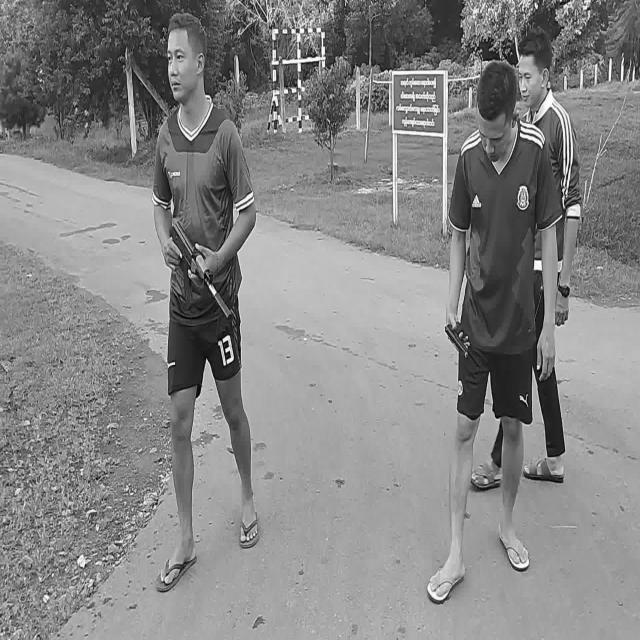gun: (173, 220, 232, 324), (445, 321, 468, 359)
